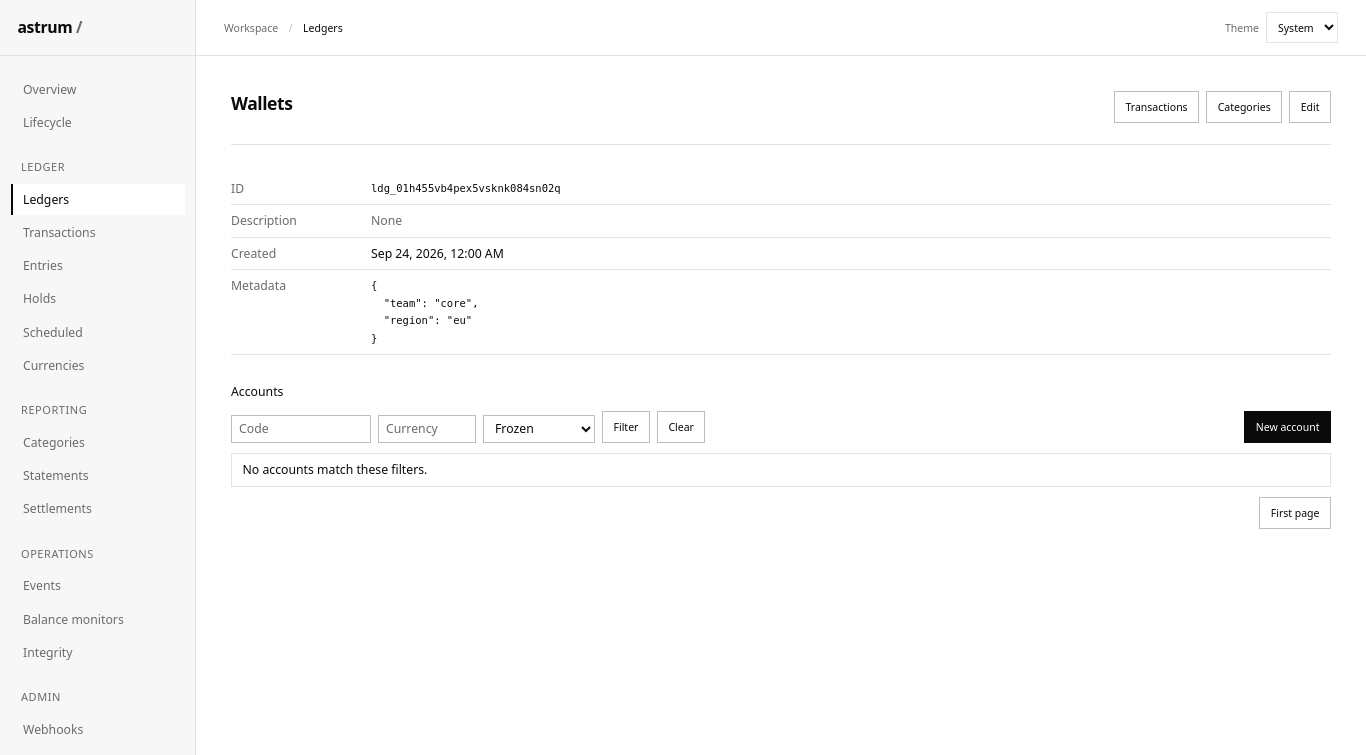
Test case: filter bar › clears filters and resets the fields
The image size is (1366, 755).
Expected: the text "No accounts match these filters." is shown, [231,453,1331,486]
Expected: the dropdown named "Status" shows "Frozen", [483,414,595,442]
Click the link "Clear" at {"x": 681, "y": 427}, box [657,411,705,442]
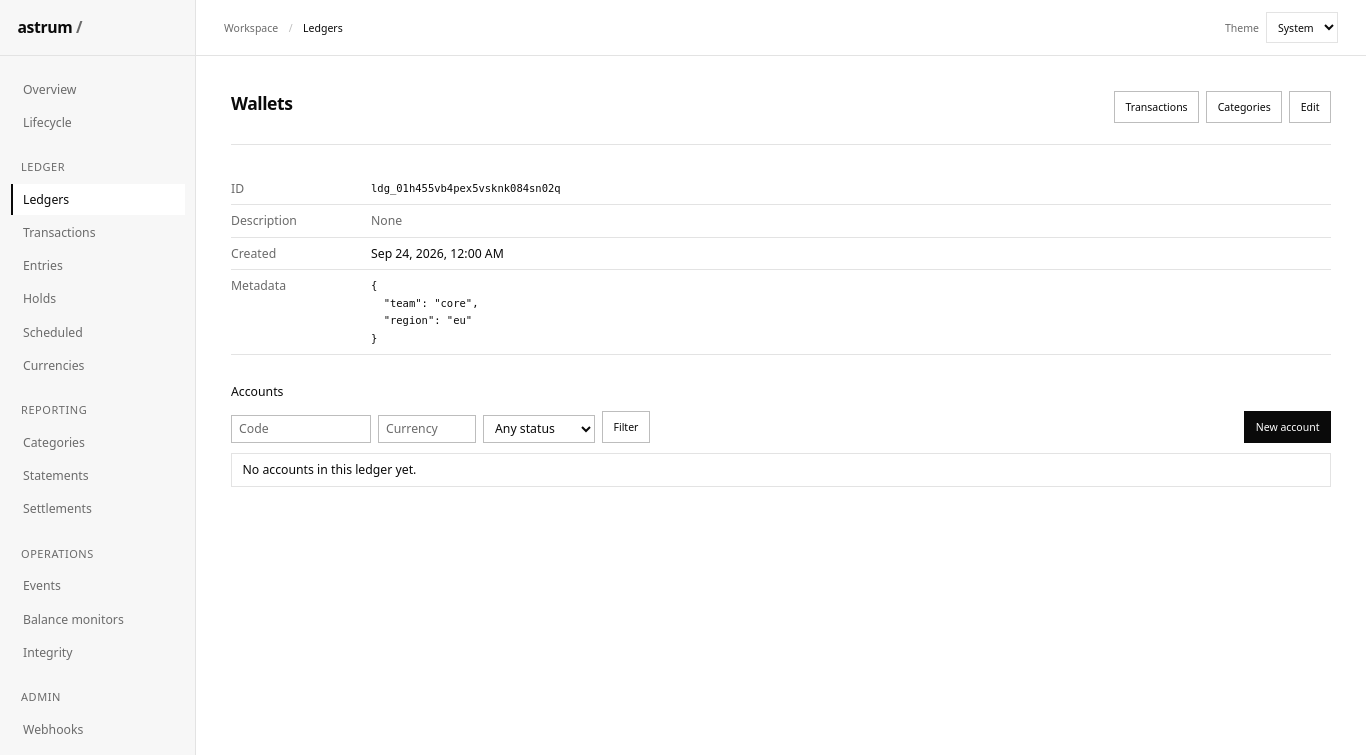
Now the text "No accounts in this ledger yet." is shown, box [231,453,1331,486]
Now the dropdown named "Status" shows "Any status", box [483,414,595,442]
